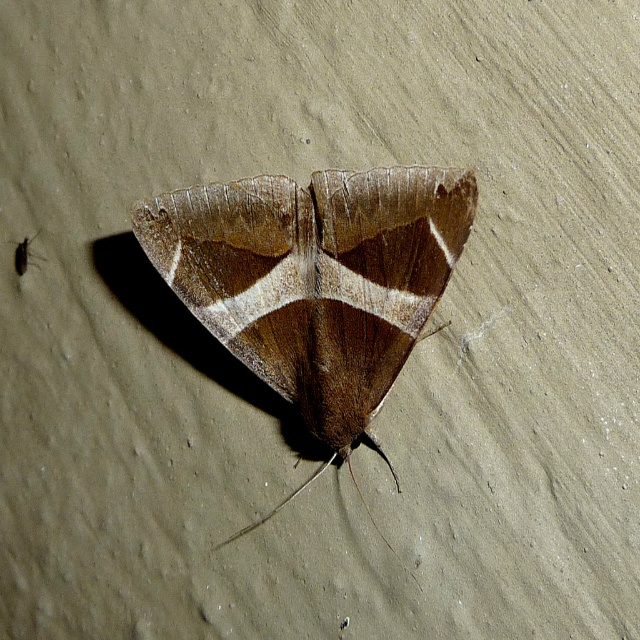Butterfly: (134, 142, 477, 539)
